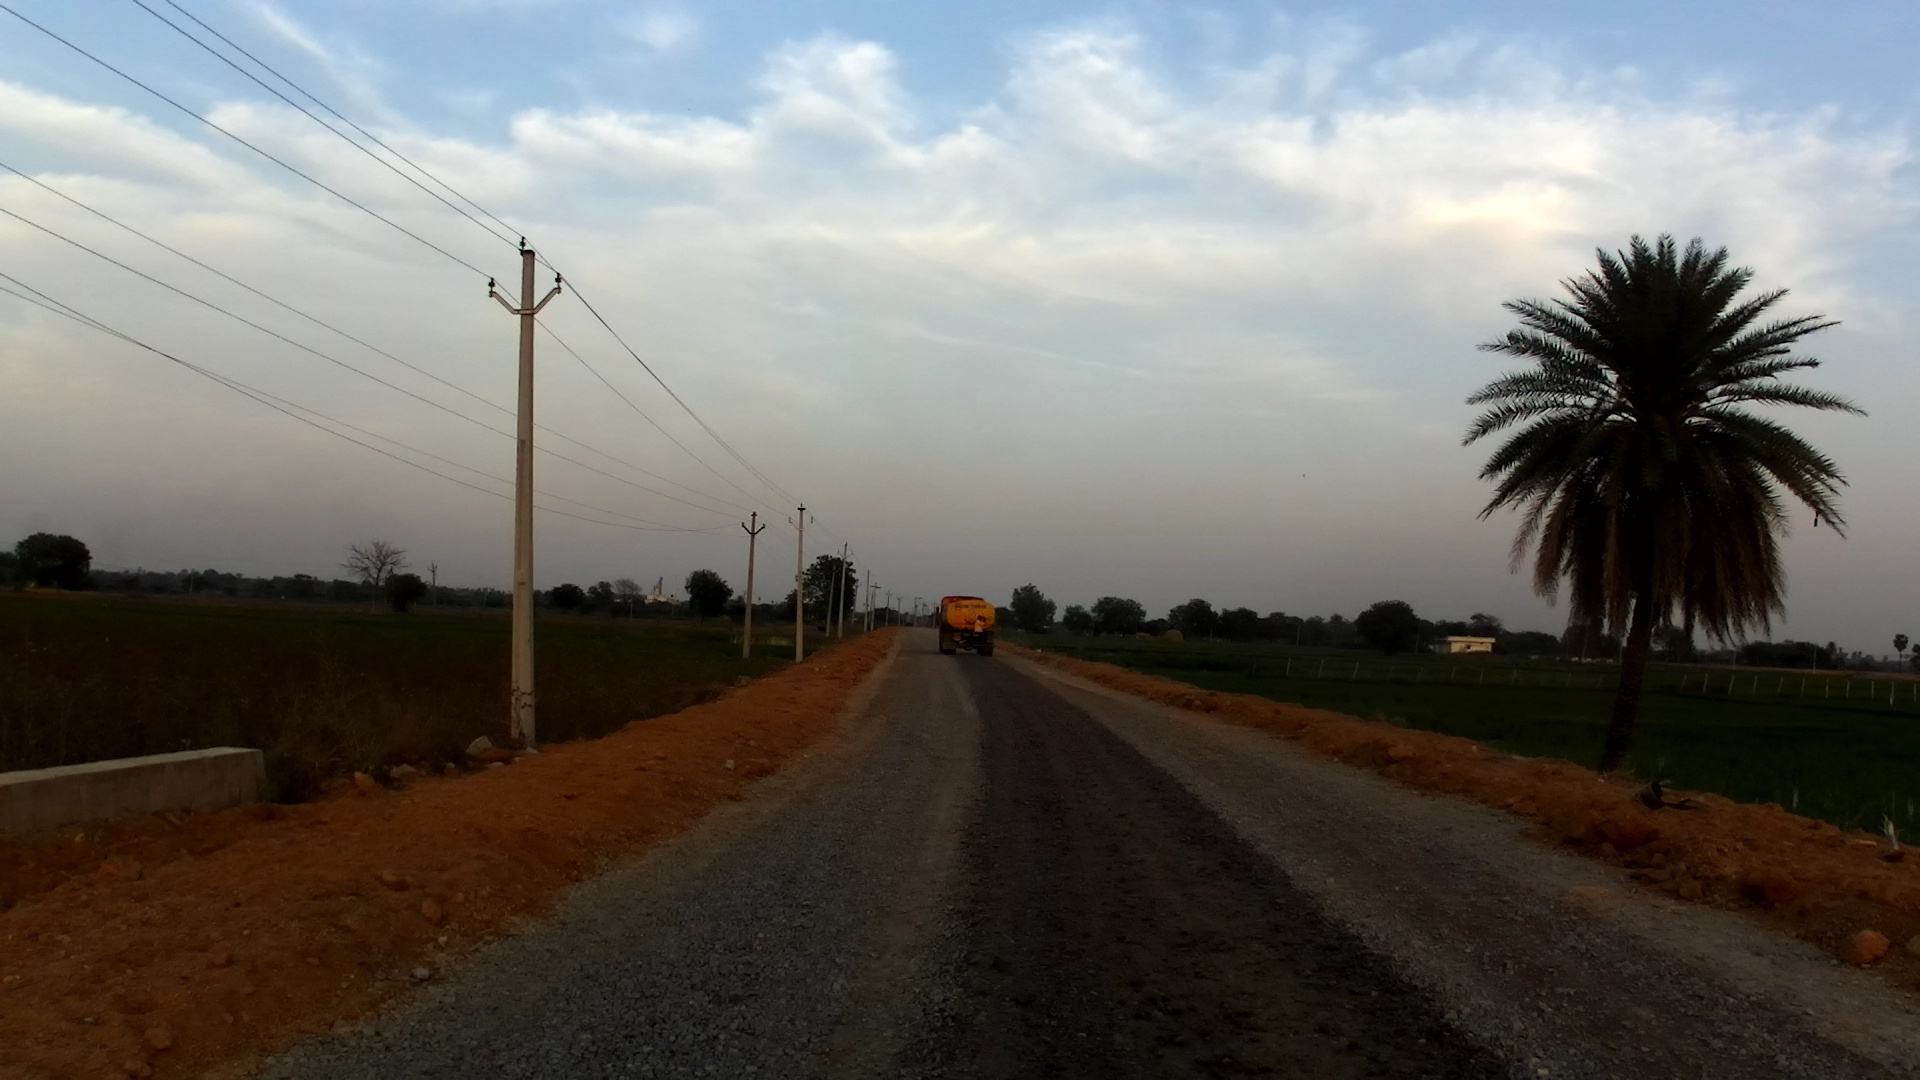rider: (966, 610, 990, 651)
truck: (932, 593, 999, 662)
